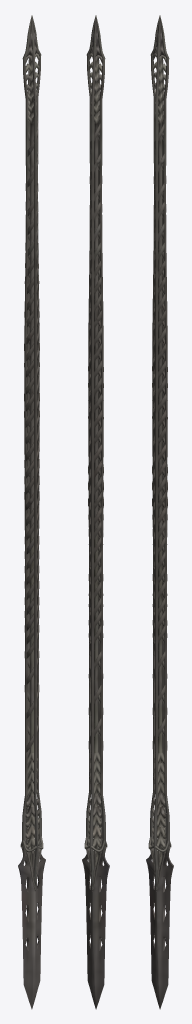
Rendered from weapon-wp_a_0942.glb.
The picture shows the model from 3 angles, left to right: view 1: azimuth 30°, elevation 25°; view 2: azimuth 150°, elevation 25°; view 3: azimuth 330°, elevation 25°; orthographic projection.
Visible parts, largest first — view 1: wp_a_0942_mesh; view 2: wp_a_0942_mesh; view 3: wp_a_0942_mesh.
Boxes of the visible parts, x1,y1,x2,y2 form: wp_a_0942_mesh: [18, 15, 45, 1009]; wp_a_0942_mesh: [82, 15, 109, 1009]; wp_a_0942_mesh: [146, 15, 173, 1009].
Size of the model in its own units: 0.0601 by 2.07 by 0.0438.
Materials: 1 (1 with a texture image).
